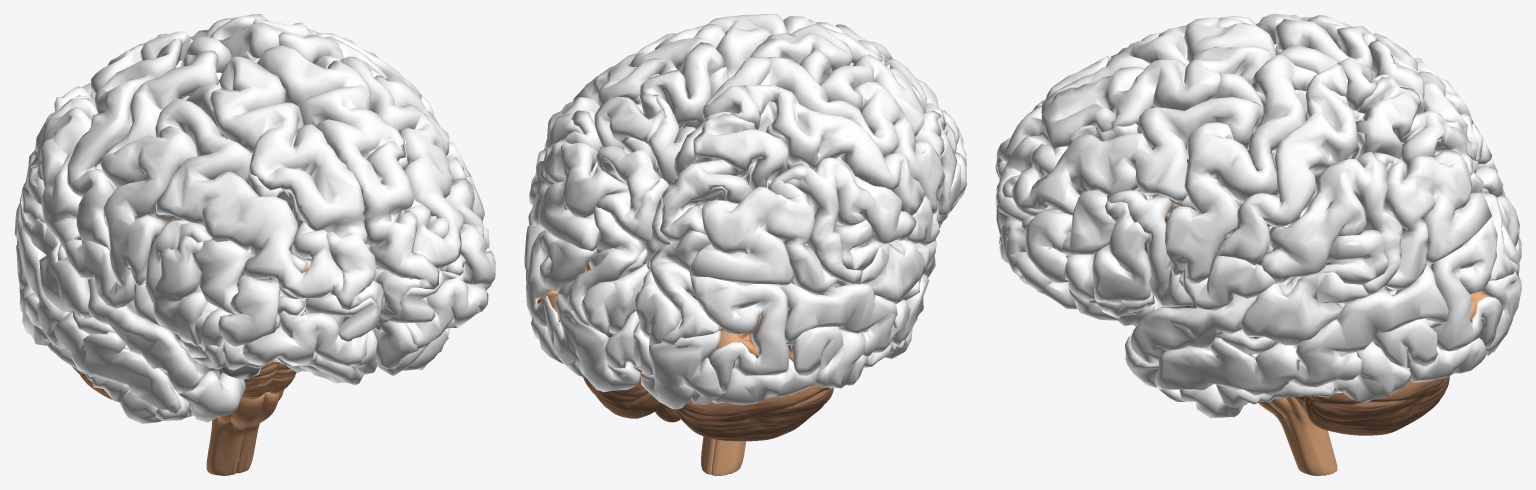
Rendered from brain-draco.glb.
3 views of the same model, side by side, from view 1: azimuth 30°, elevation 25°; view 2: azimuth 150°, elevation 25°; view 3: azimuth 270°, elevation 25° (orthographic). The views are drawn at different scales.
Visible parts, largest first — view 1: Middle frontal gyrus_R, Superior frontal gyrus_R, Superior frontal gyrus_L, Precentral gyrus_R, Middle frontal gyrus_L, Middle temporal gyrus_R, Superior temporal gyrus (Lateral part)_R, Postcentral gyrus_R, Supramarginal gyrus_R, Orbital gyri (Frontomarginal gyrus and sulcus*)_R, Triangular part of inferior frontal gyrus_R, Inferior frontal sulcus_R (+28 smaller); view 2: Angular gyrus_R, Superior parietal lobule_R, Postcentral gyrus_R, Supramarginal gyrus_R, Lateral occipital gyrus (Middle occipital gyrus*)_R, Angular gyrus_L, Precentral gyrus_R, Middle temporal gyrus_R, Superior parietal lobule_L, Cerebellum_R, Occipital pole_R, Middle frontal gyrus_R (+31 smaller); view 3: Middle frontal gyrus_L, Precentral gyrus_L, Middle temporal gyrus_L, Superior frontal gyrus_L, Superior temporal gyrus (Lateral part)_L, Postcentral gyrus_L, Supramarginal gyrus_L, Angular gyrus_L, Inferior temporal gyrus_L, Superior frontal gyrus_R, Superior parietal lobule_L, Lateral occipital gyrus (Middle occipital gyrus*)_L (+26 smaller).
Part boxes in pixels (<box>): Middle frontal gyrus_R: <box>155,98,343,346</box>; Superior frontal gyrus_R: <box>210,56,383,318</box>; Superior frontal gyrus_L: <box>242,45,439,330</box>; Precentral gyrus_R: <box>101,50,219,286</box>; Middle frontal gyrus_L: <box>341,56,495,285</box>; Middle temporal gyrus_R: <box>14,203,181,415</box>; Superior temporal gyrus (Lateral part)_R: <box>23,218,204,393</box>; Postcentral gyrus_R: <box>67,39,182,250</box>; Supramarginal gyrus_R: <box>20,97,97,248</box>; Orbital gyri (Frontomarginal gyrus and sulcus*)_R: <box>242,303,367,366</box>; Triangular part of inferior frontal gyrus_R: <box>153,235,207,346</box>; Inferior frontal sulcus_R: <box>153,203,252,314</box>; Angular gyrus_R: <box>690,163,838,294</box>; Superior parietal lobule_R: <box>660,113,788,243</box>; Postcentral gyrus_R: <box>744,85,924,215</box>; Supramarginal gyrus_R: <box>783,157,916,284</box>; Lateral occipital gyrus (Middle occipital gyrus*)_R: <box>690,275,789,392</box>; Angular gyrus_L: <box>531,110,628,250</box>; Precentral gyrus_R: <box>760,56,944,214</box>; Middle temporal gyrus_R: <box>780,274,929,356</box>; Superior parietal lobule_L: <box>594,94,666,229</box>; Cerebellum_R: <box>675,384,833,441</box>; Occipital pole_R: <box>641,330,724,409</box>; Middle frontal gyrus_R: <box>819,54,966,166</box>; Middle frontal gyrus_L: <box>1002,97,1264,283</box>; Precentral gyrus_L: <box>1165,53,1317,283</box>; Middle temporal gyrus_L: <box>1155,264,1448,395</box>; Superior frontal gyrus_L: <box>995,46,1272,205</box>; Superior temporal gyrus (Lateral part)_L: <box>1130,272,1369,365</box>; Postcentral gyrus_L: <box>1214,63,1357,265</box>; Supramarginal gyrus_L: <box>1261,152,1402,294</box>; Angular gyrus_L: <box>1372,151,1491,291</box>; Inferior temporal gyrus_L: <box>1179,318,1441,418</box>; Superior frontal gyrus_R: <box>995,17,1283,179</box>; Superior parietal lobule_L: <box>1355,76,1478,175</box>; Lateral occipital gyrus (Middle occipital gyrus*)_L: <box>1430,216,1503,351</box>.
Size of the model in its own units: 0.1452 by 0.1609 by 0.1769.
